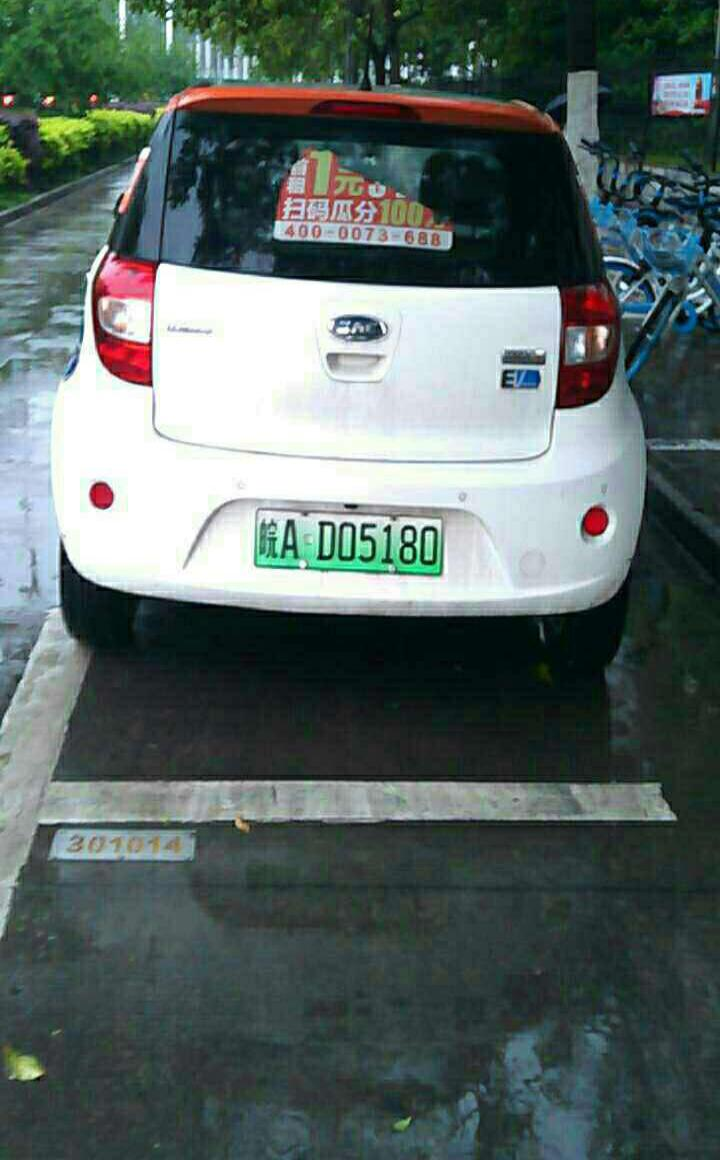car_green: (251, 504, 453, 579)
